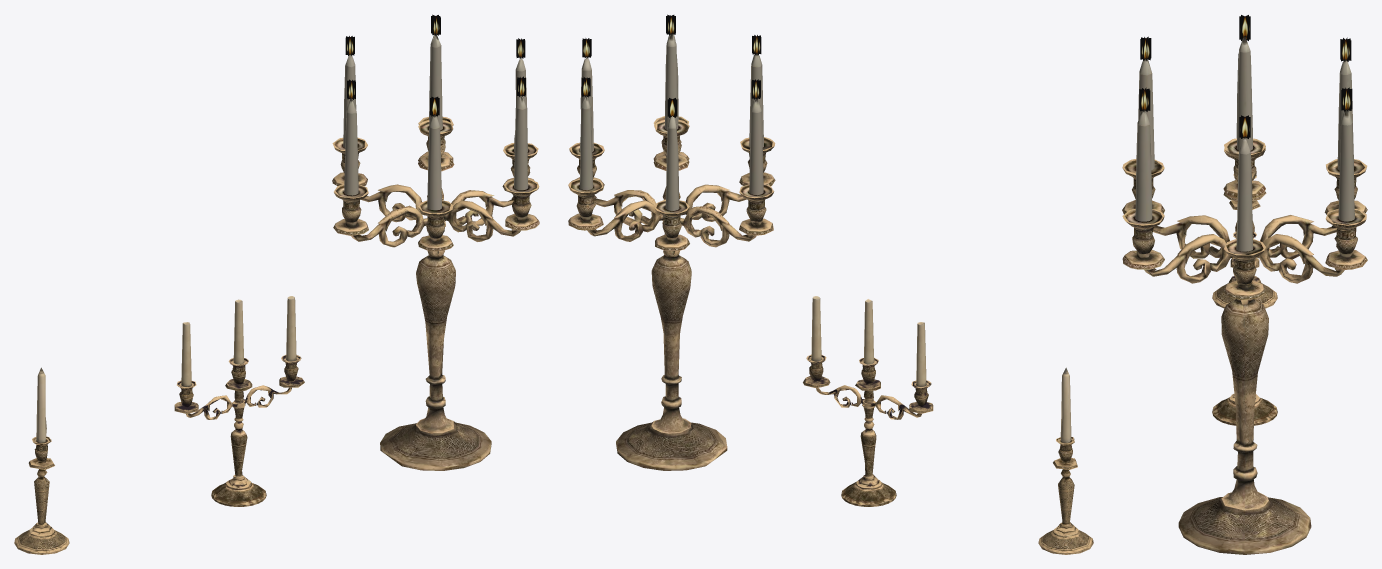
Rendered from brass_candleholders.glb.
3 renders of one model, left to right at view 1: azimuth 30°, elevation 25°; view 2: azimuth 150°, elevation 25°; view 3: azimuth 270°, elevation 25°, orthographic. The views are drawn at different scales.
Parts seen in each view (by area): view 1: brass_candleholder_03, brass_candleholder_02, brass_candleholder_01; view 2: brass_candleholder_03, brass_candleholder_02, brass_candleholder_01; view 3: brass_candleholder_03, brass_candleholder_02, brass_candleholder_01.
Part boxes in pixels (box(x1,y1,x2,y2)): brass_candleholder_03: box(332, 14, 539, 470); brass_candleholder_02: box(174, 296, 304, 506); brass_candleholder_01: box(14, 367, 69, 554); brass_candleholder_03: box(568, 14, 775, 470); brass_candleholder_02: box(803, 296, 933, 506); brass_candleholder_01: box(1038, 367, 1093, 554); brass_candleholder_03: box(1122, 15, 1367, 554); brass_candleholder_02: box(1212, 232, 1277, 425); brass_candleholder_01: box(1212, 174, 1277, 308).
Bounding box in the file's own units: 1.05 × 0.8353 × 0.3644.
5 materials, 5 textured.
